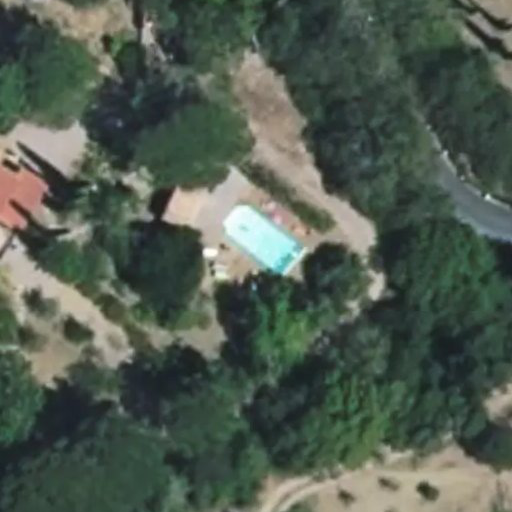pool: (222, 203, 306, 283)
